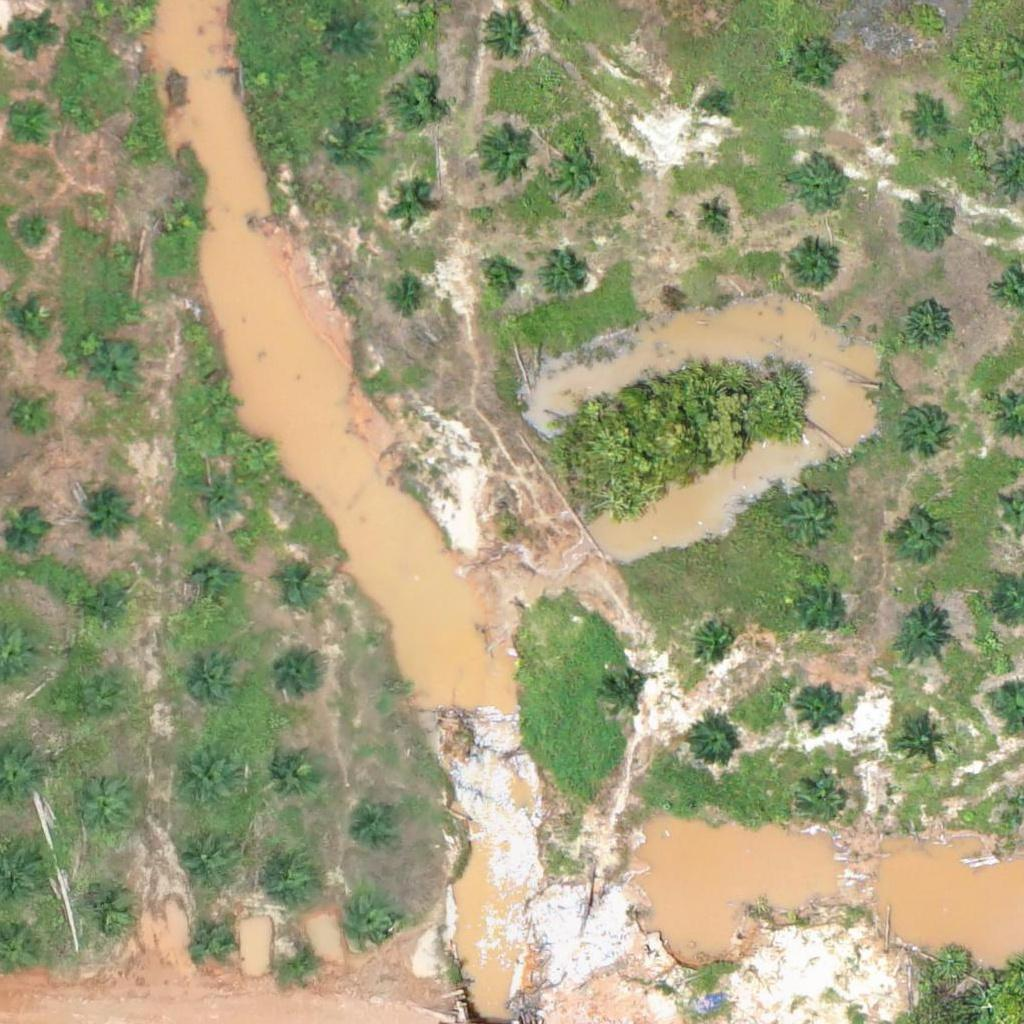Kelapa_Sawit: (62, 676, 125, 739), (177, 652, 240, 715), (175, 749, 238, 812), (262, 845, 325, 908), (176, 830, 239, 893), (891, 608, 954, 671), (542, 141, 605, 204), (72, 782, 134, 845), (77, 880, 139, 943), (262, 740, 324, 803), (782, 237, 844, 300), (786, 155, 848, 218), (476, 123, 538, 186), (189, 915, 239, 966), (275, 936, 325, 987), (891, 513, 941, 564), (902, 199, 952, 250), (785, 498, 835, 549), (796, 581, 846, 632), (796, 679, 846, 730), (896, 718, 946, 769), (899, 300, 949, 351), (792, 36, 842, 87), (1, 294, 51, 345), (278, 651, 328, 701), (85, 482, 135, 532), (3, 507, 53, 557), (192, 477, 242, 527), (91, 346, 141, 396), (188, 562, 238, 612), (274, 561, 324, 611), (896, 403, 946, 453), (687, 719, 737, 769), (346, 902, 396, 952), (356, 797, 406, 847), (798, 780, 848, 830), (690, 615, 740, 665), (599, 671, 649, 721), (82, 586, 132, 636), (391, 80, 441, 130), (480, 13, 530, 63), (540, 249, 590, 299), (5, 14, 55, 64), (3, 104, 53, 154), (329, 130, 379, 180), (905, 105, 943, 143), (200, 384, 238, 422), (12, 395, 50, 433), (390, 185, 428, 223), (391, 276, 429, 314), (478, 259, 516, 297), (104, 236, 142, 274), (114, 123, 152, 161), (697, 196, 734, 234), (168, 198, 205, 236), (331, 18, 368, 56), (14, 217, 51, 254), (703, 93, 728, 118)
